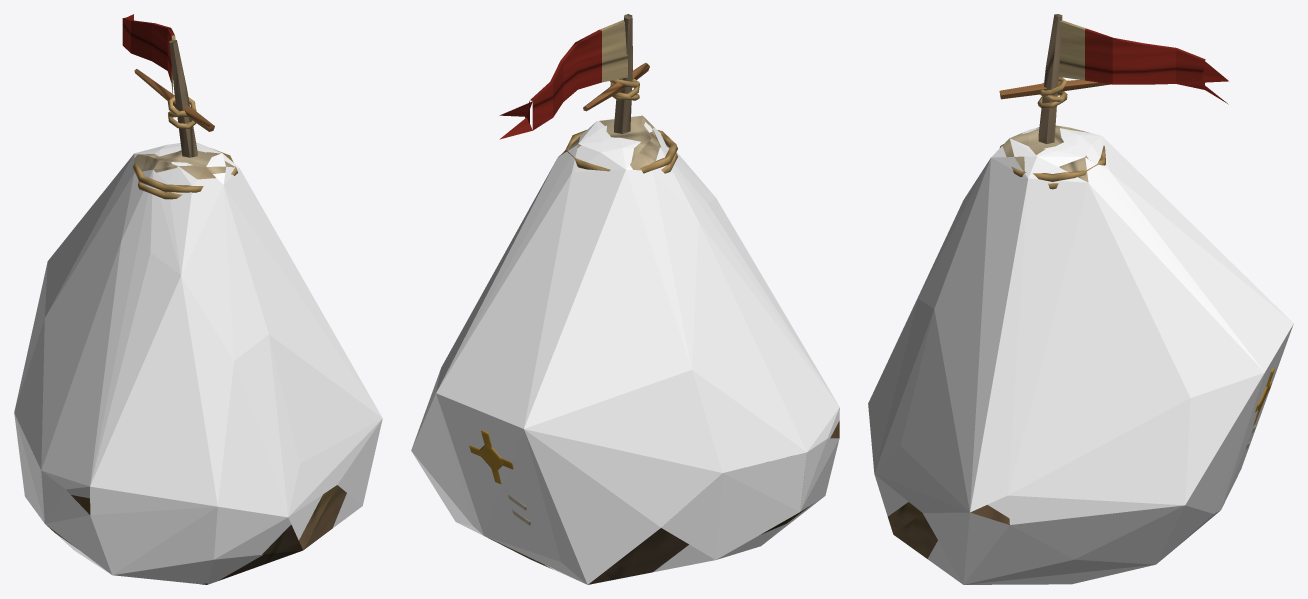
Rendered from stone_cairn_marker.glb.
The picture shows the model from 3 angles, left to right: view 1: azimuth 30°, elevation 25°; view 2: azimuth 150°, elevation 25°; view 3: azimuth 270°, elevation 25°; orthographic projection. The views are drawn at different scales.
Parts seen in each view (by area): view 1: col_cairn, StoneCairnMarker; view 2: col_cairn, StoneCairnMarker; view 3: col_cairn, StoneCairnMarker.
Boxes of the visible parts, x1,y1,x2,y2 form: col_cairn: [14, 142, 382, 584]; StoneCairnMarker: [46, 14, 346, 584]; col_cairn: [411, 116, 839, 584]; StoneCairnMarker: [469, 14, 839, 584]; col_cairn: [868, 128, 1293, 584]; StoneCairnMarker: [888, 14, 1274, 558].
Size of the model in its own units: 2 by 2.93 by 2.2.
8 materials, 7 textured.
